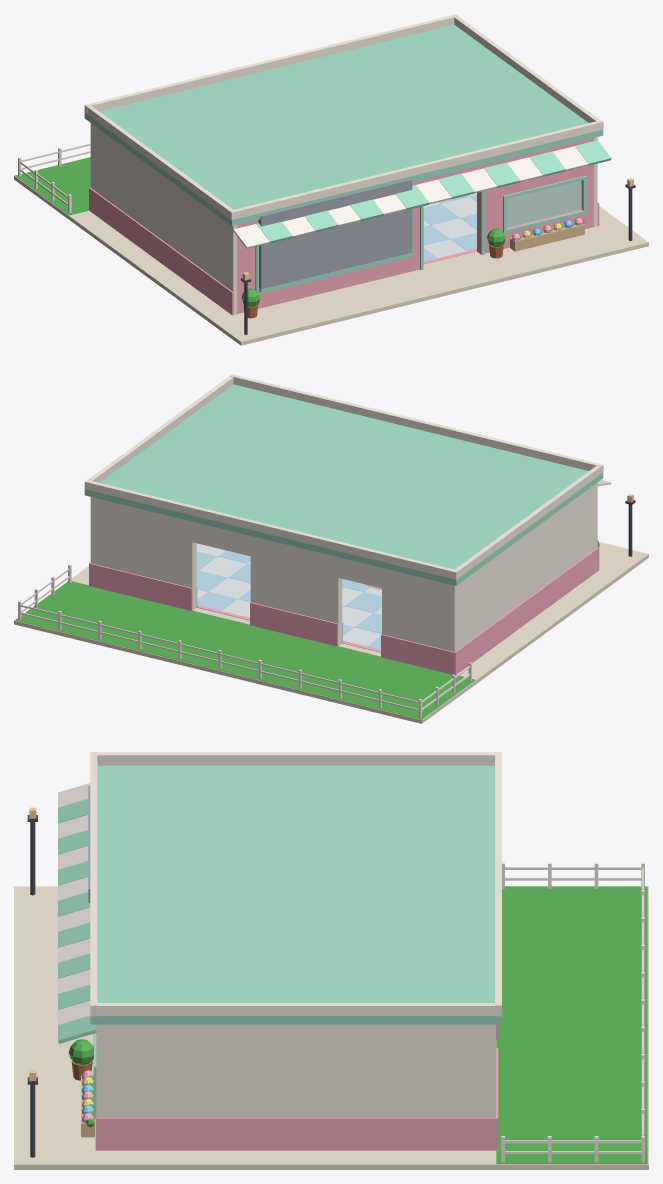
File: CleanACat_Area_SpaPlotBig.fbx
3 views of the same model, one above another, from view 1: azimuth 30°, elevation 25°; view 2: azimuth 150°, elevation 25°; view 3: azimuth 270°, elevation 25° (orthographic). The views are drawn at different scales.
Visible parts, largest first — view 1: CleanACat_Area_SpaPlotBig_Roof, CleanACat_Area_SpaPlotBig, CleanACat_Area_SpaPlotBig_Wall, CleanACat_Area_SpaPlotBig_Counter_Barrier, CleanACat_Area_SpaPlotBig_Canopy, CleanACat_Area_SpaPlotBig_Bands, CleanACat_Area_SpaPlotBig_Decor, CleanACat_Area_SpaPlotBig_Glass, CleanACat_Area_SpaPlotBig_Trim, CleanACat_Area_SpaPlotBig_Tiles, CleanACat_Area_SpaPlotBig_Counter; view 2: CleanACat_Area_SpaPlotBig_Roof, CleanACat_Area_SpaPlotBig, CleanACat_Area_SpaPlotBig_Wall, CleanACat_Area_SpaPlotBig_Bands, CleanACat_Area_SpaPlotBig_Decor, CleanACat_Area_SpaPlotBig_Tiles; view 3: CleanACat_Area_SpaPlotBig_Roof, CleanACat_Area_SpaPlotBig, CleanACat_Area_SpaPlotBig_Wall, CleanACat_Area_SpaPlotBig_Bands, CleanACat_Area_SpaPlotBig_Canopy, CleanACat_Area_SpaPlotBig_Decor, CleanACat_Area_SpaPlotBig_Flowers.
Boxes of the visible parts, x1=… form: CleanACat_Area_SpaPlotBig_Roof: x1=84, y1=14, x2=603, y2=225; CleanACat_Area_SpaPlotBig: x1=14, y1=157, x2=648, y2=345; CleanACat_Area_SpaPlotBig_Wall: x1=90, y1=123, x2=597, y2=314; CleanACat_Area_SpaPlotBig_Counter_Barrier: x1=258, y1=179, x2=412, y2=289; CleanACat_Area_SpaPlotBig_Canopy: x1=233, y1=140, x2=611, y2=248; CleanACat_Area_SpaPlotBig_Bands: x1=89, y1=187, x2=599, y2=315; CleanACat_Area_SpaPlotBig_Decor: x1=18, y1=143, x2=635, y2=334; CleanACat_Area_SpaPlotBig_Glass: x1=506, y1=180, x2=581, y2=227; CleanACat_Area_SpaPlotBig_Trim: x1=255, y1=175, x2=586, y2=294; CleanACat_Area_SpaPlotBig_Tiles: x1=423, y1=195, x2=476, y2=264; CleanACat_Area_SpaPlotBig_Counter: x1=259, y1=252, x2=412, y2=292; CleanACat_Area_SpaPlotBig_Roof: x1=84, y1=374, x2=603, y2=585; CleanACat_Area_SpaPlotBig: x1=14, y1=542, x2=648, y2=723; CleanACat_Area_SpaPlotBig_Wall: x1=90, y1=483, x2=597, y2=651; CleanACat_Area_SpaPlotBig_Bands: x1=89, y1=547, x2=599, y2=674; CleanACat_Area_SpaPlotBig_Decor: x1=18, y1=500, x2=635, y2=717; CleanACat_Area_SpaPlotBig_Tiles: x1=196, y1=550, x2=381, y2=652; CleanACat_Area_SpaPlotBig_Roof: x1=90, y1=752, x2=501, y2=1024; CleanACat_Area_SpaPlotBig: x1=14, y1=886, x2=648, y2=1169; CleanACat_Area_SpaPlotBig_Wall: x1=96, y1=1024, x2=495, y2=1117; CleanACat_Area_SpaPlotBig_Bands: x1=95, y1=1024, x2=498, y2=1150; CleanACat_Area_SpaPlotBig_Canopy: x1=58, y1=783, x2=96, y2=1043; CleanACat_Area_SpaPlotBig_Decor: x1=27, y1=815, x2=644, y2=1162; CleanACat_Area_SpaPlotBig_Flowers: x1=82, y1=1070, x2=94, y2=1126.
Size of the model in its own units: 56 by 14.25 by 54.
Materials: 1 (1 with a texture image).
